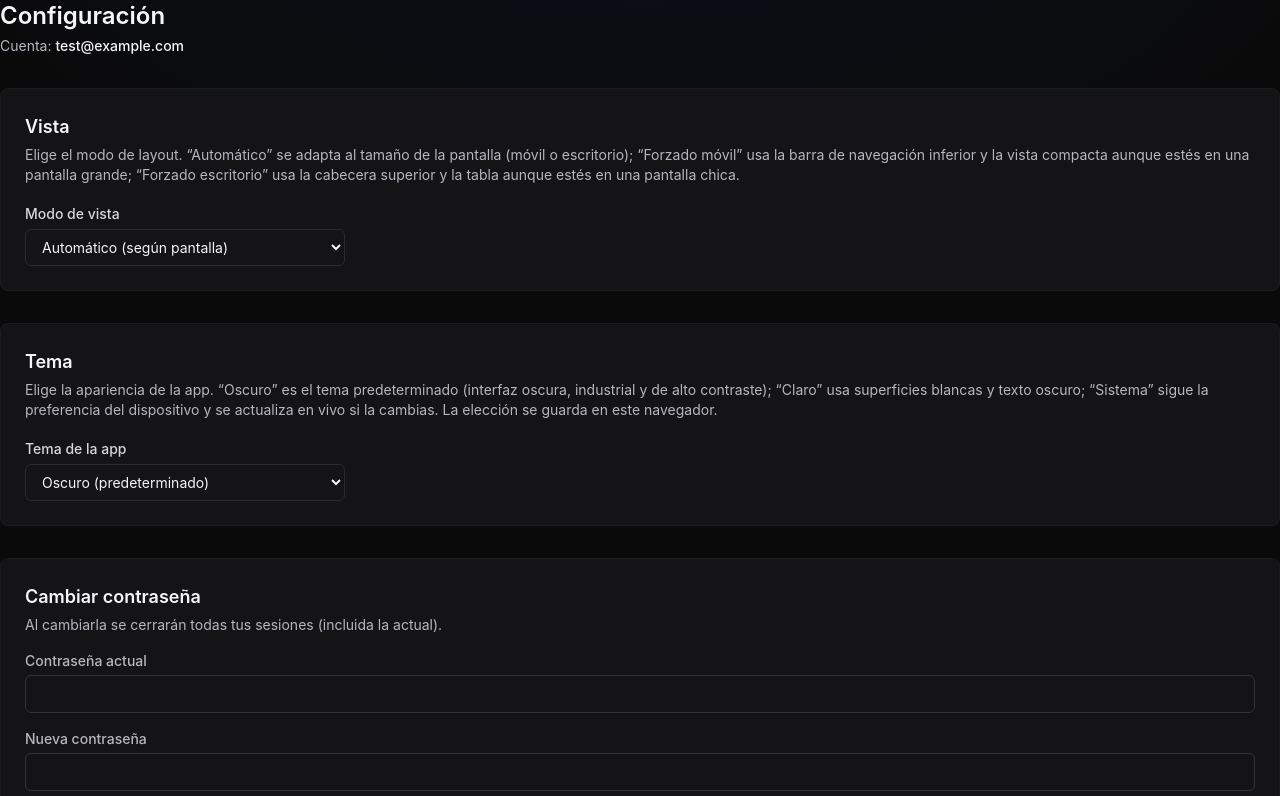
Test case: SettingsPage › muestra un error si las contraseñas nuevas no coinciden
Step 1. Type "OldPass123" into the password field labelled "Contraseña actual" → (640, 694), box x1=25 y1=675 x2=1255 y2=713
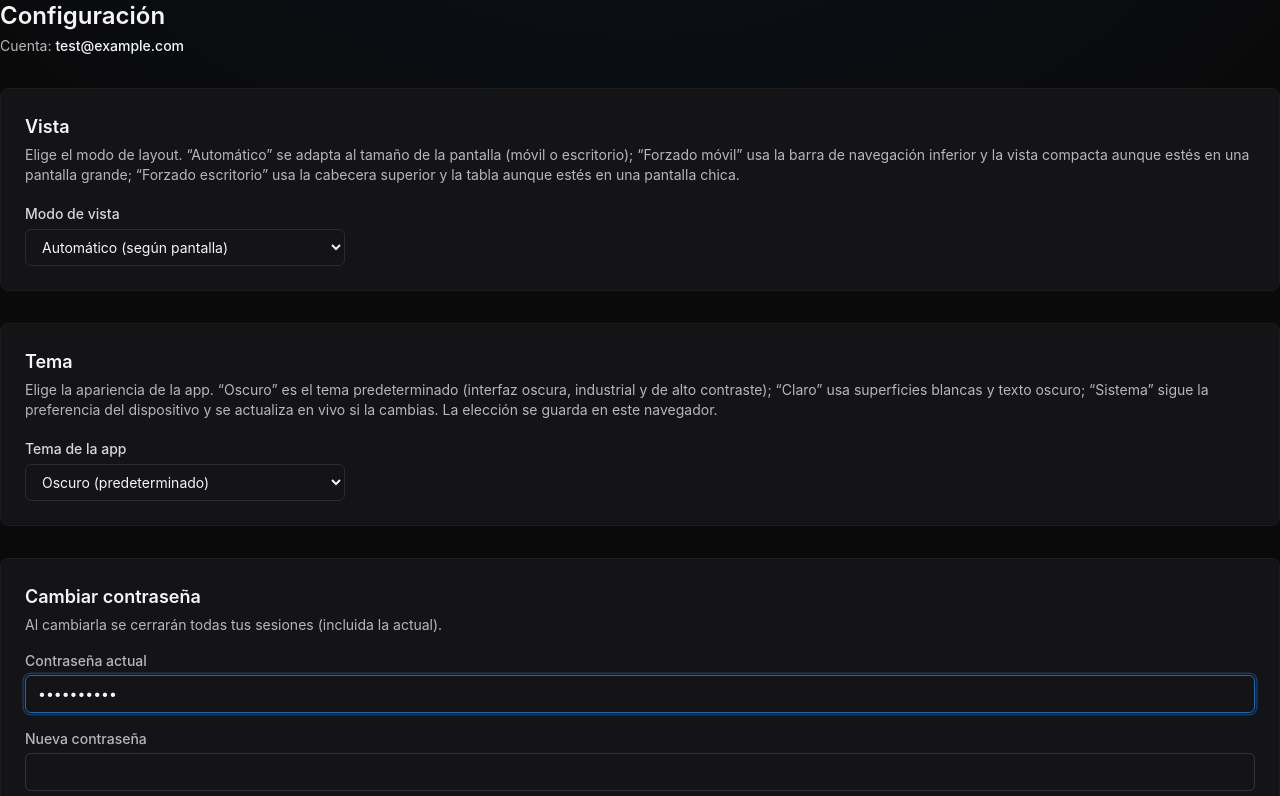
Step 2. Type "NewPass456" into the password field labelled "Nueva contraseña" → (640, 772), box x1=25 y1=753 x2=1255 y2=791
(page scrolled)
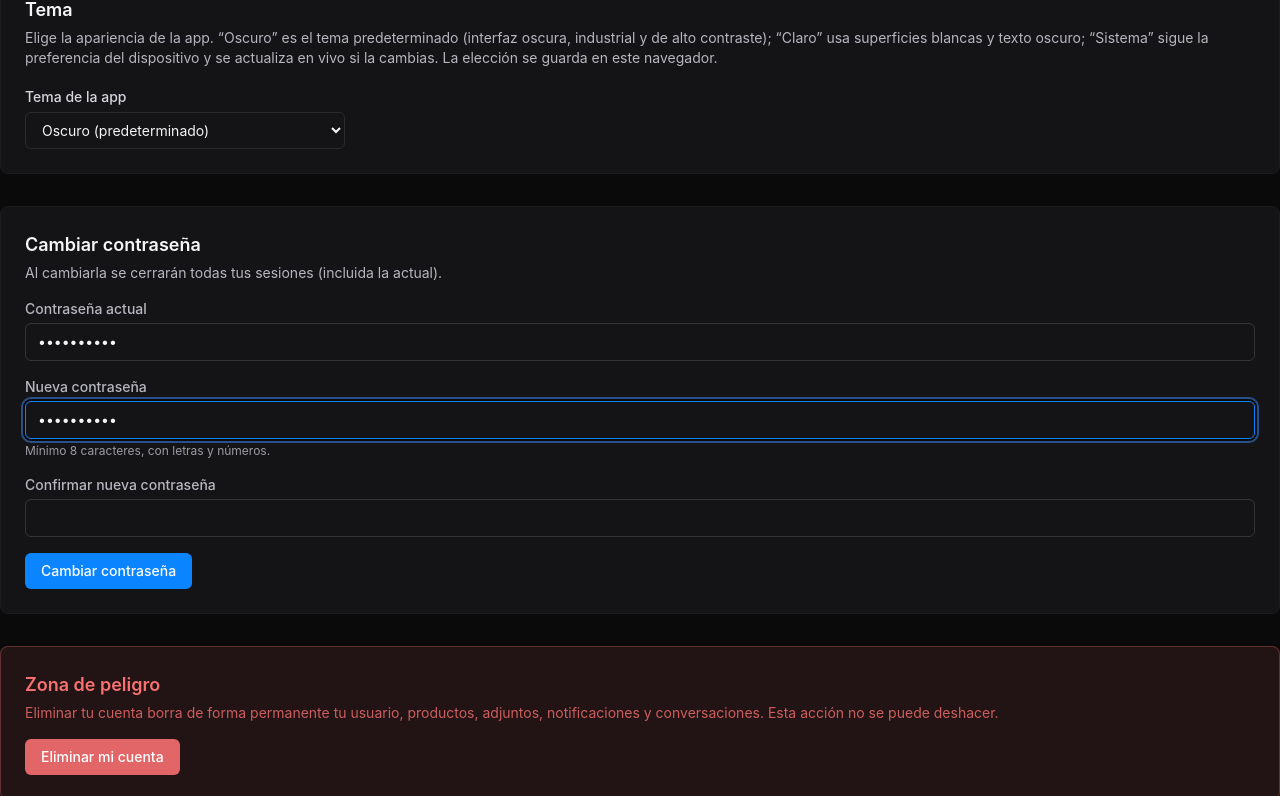
Step 3. Type "NewPass789" into the password field labelled "Confirmar nueva contraseña" → (640, 518), box x1=25 y1=499 x2=1255 y2=537
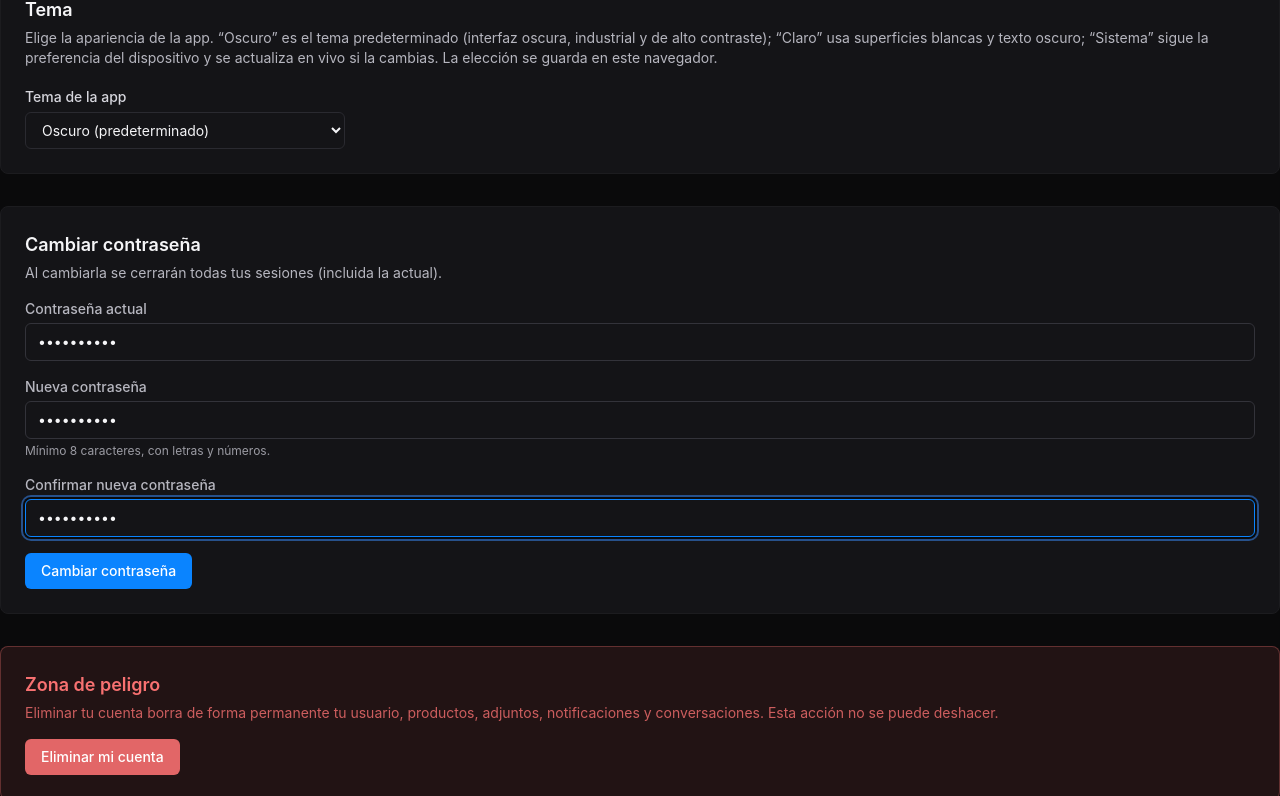
Step 4. Click the button "Cambiar contraseña" → (109, 571), box x1=25 y1=553 x2=192 y2=589
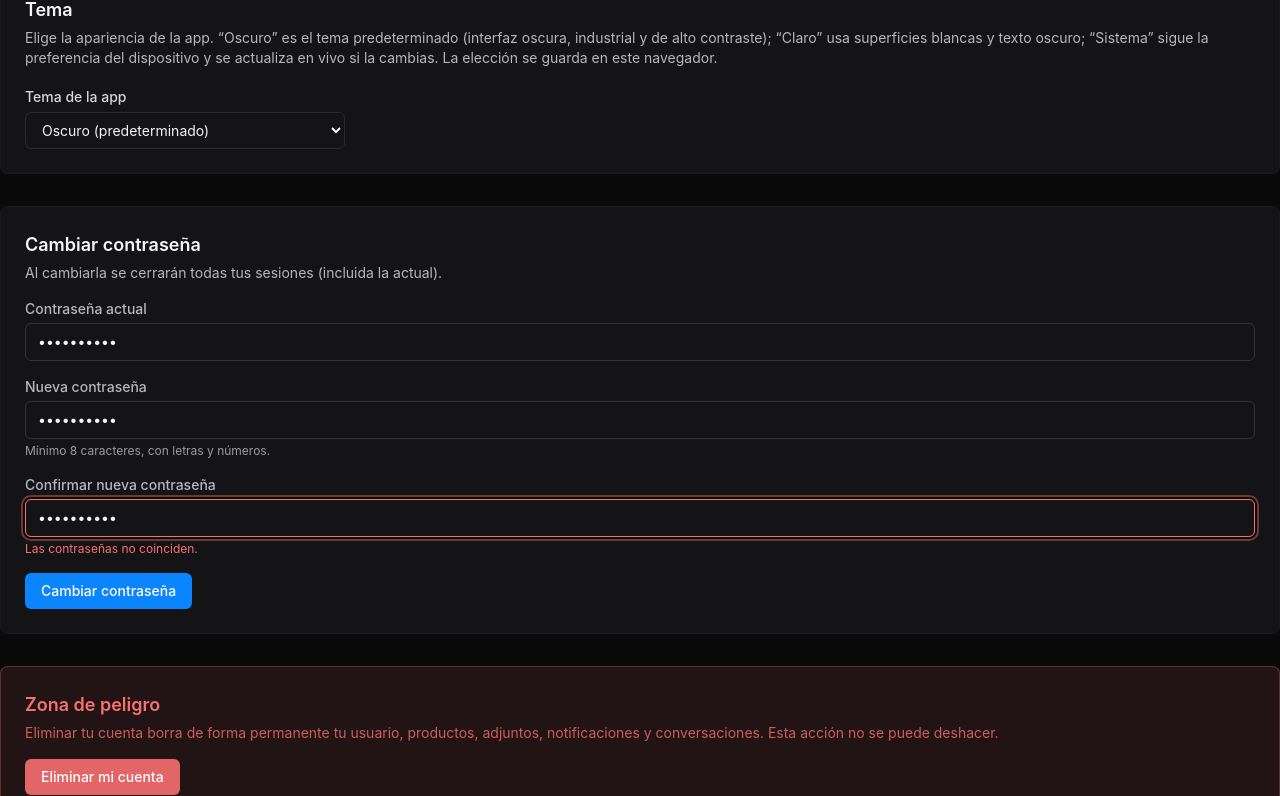
Expected: the text "Las contraseñas no coinciden." is shown, x1=25 y1=541 x2=198 y2=556
